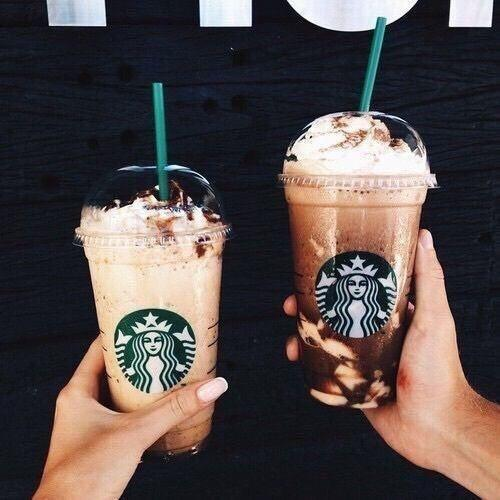cup-disposable: (76, 160, 233, 465), (280, 111, 437, 412)
